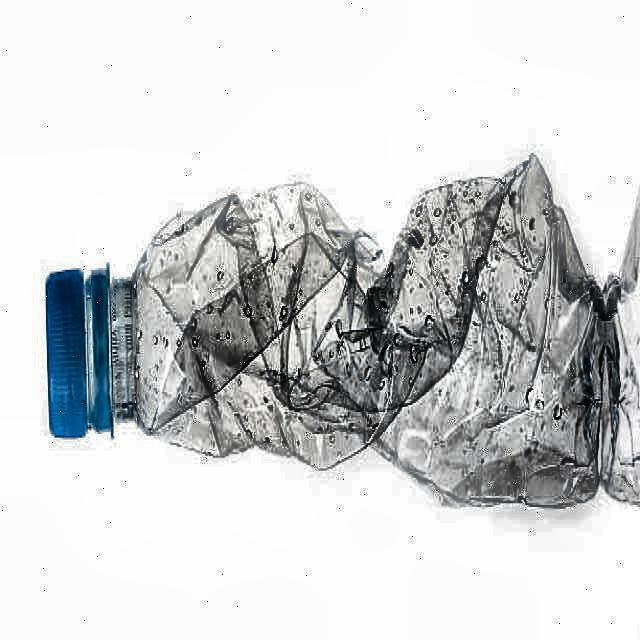plastic: (46, 158, 599, 504)
